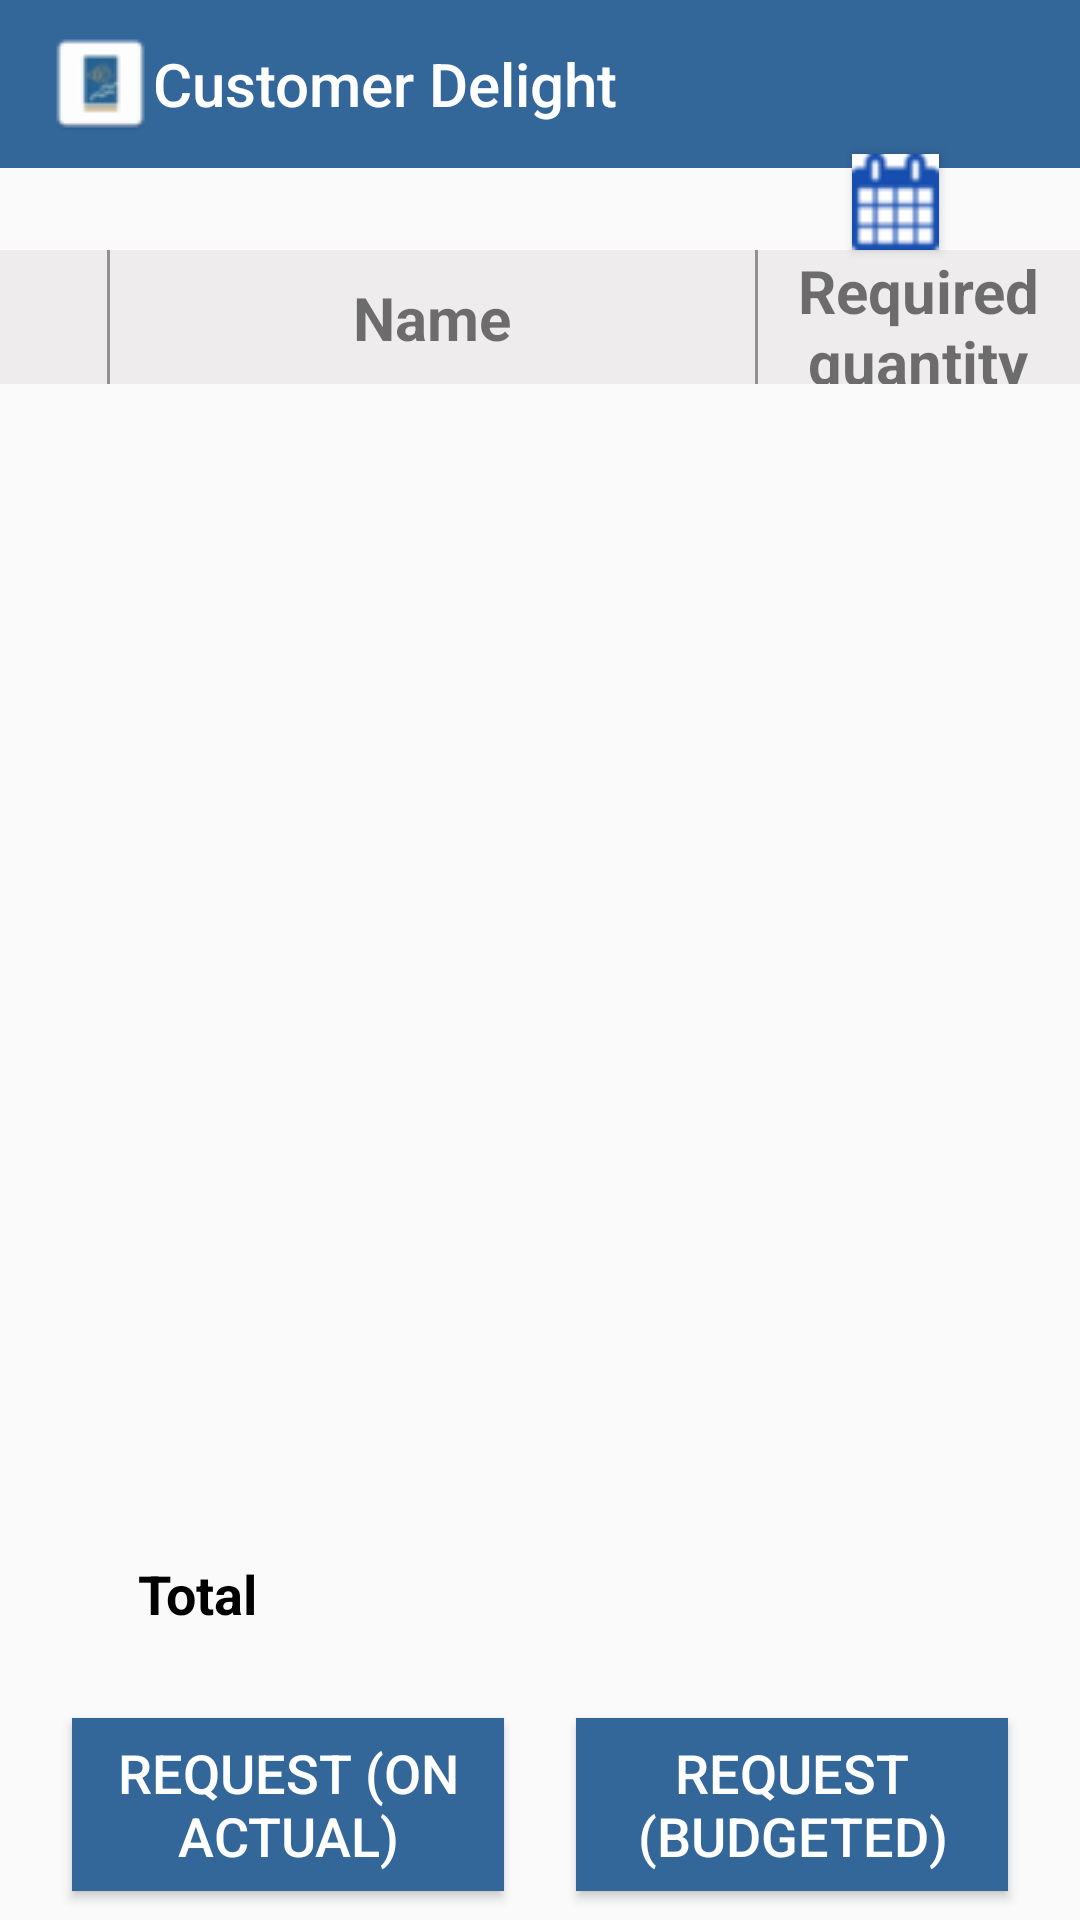

Icons on this 1080 × 1920 Android screen, each with the point to tap as [x,y]:
calendar: [895,202]
